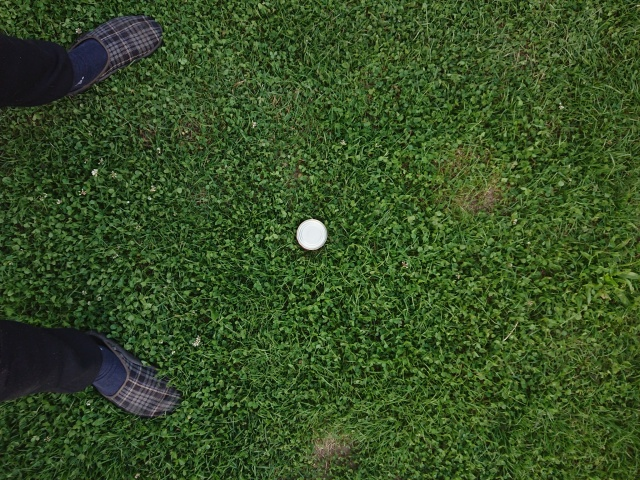Podravka Luncheon Meat 150g: (292, 216, 330, 253)
